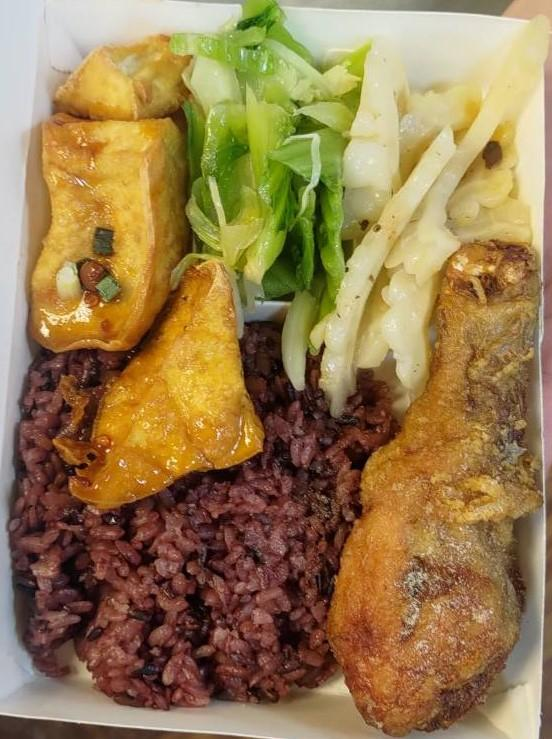big grilled chicken leg: (0, 0, 552, 739)
braised fish: (17, 322, 399, 710)
braised fish fillet: (27, 30, 260, 508), (322, 52, 537, 389), (182, 19, 360, 310)
braised pork: (321, 237, 545, 738)
